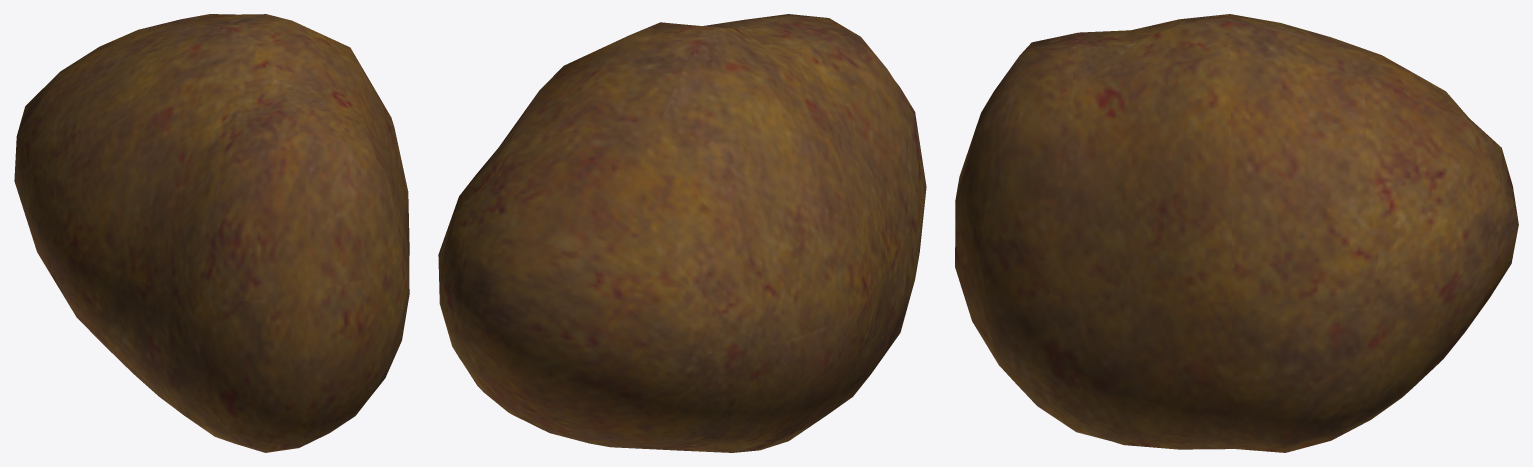
File: Potato_7_potato_a7.obj
3 views of the same model, side by side, from view 1: azimuth 30°, elevation 25°; view 2: azimuth 150°, elevation 25°; view 3: azimuth 270°, elevation 25° (orthographic). The views are drawn at different scales.
Size of the model in its own units: 0.0737 by 0.079 by 0.0981.
